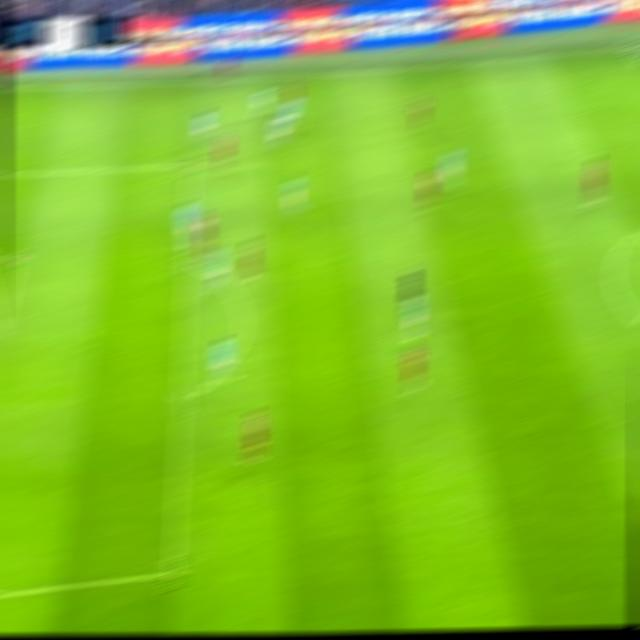bigarea_bottom_inner: (160, 557, 186, 590)
bigarea_top_inner: (180, 156, 201, 174)
bottom_arc_area_intersection: (169, 388, 196, 418)
midline_top_intersection: (619, 37, 640, 60)
smallarea_top_inner: (8, 251, 28, 267)
top_arc_area_intersection: (176, 252, 196, 272)
